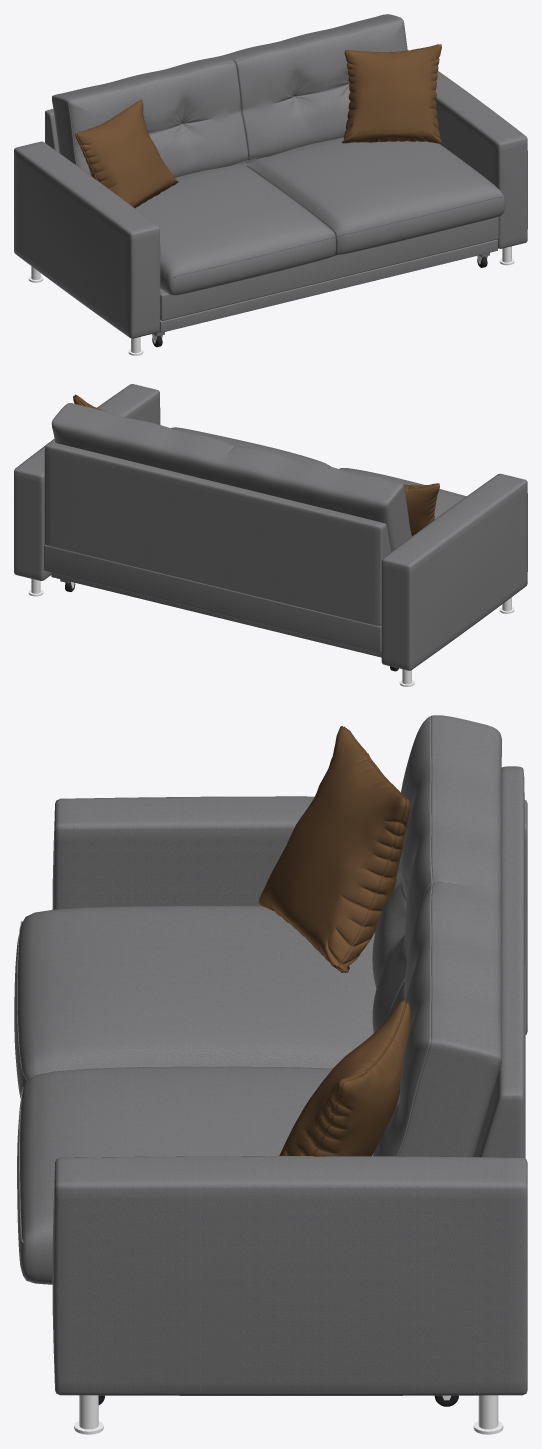
File: obj_canape_e72df1.glb
3 renders of one model, top to bottom at view 1: azimuth 30°, elevation 25°; view 2: azimuth 150°, elevation 25°; view 3: azimuth 270°, elevation 25°, orthographic. The views are drawn at different scales.
Parts seen in each view (by area): view 1: obj_canape_e72df1; view 2: obj_canape_e72df1; view 3: obj_canape_e72df1.
Part boxes in pixels (x1,y1,x2,y2): obj_canape_e72df1: (14,14,527,355); obj_canape_e72df1: (14,384,527,686); obj_canape_e72df1: (14,715,527,1434).
Bounding box in the file's own units: 1.6 × 0.7048 × 0.8864.
Materials: 4 (2 with a texture image).
